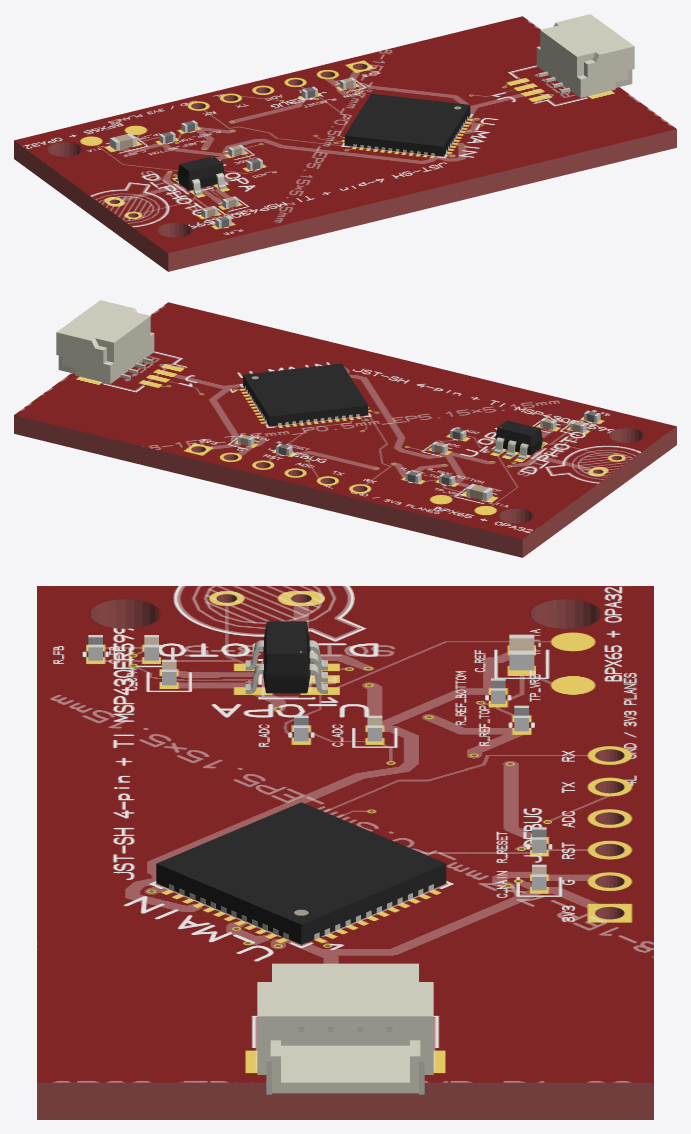
3 renders of one model, top to bottom at view 1: azimuth 30°, elevation 25°; view 2: azimuth 150°, elevation 25°; view 3: azimuth 270°, elevation 25°, orthographic. The views are drawn at different scales.
Parts seen in each view (by area): view 1: Box0, J1, U_MAIN, U_OPA; view 2: Box0, J1, U_MAIN, U_OPA; view 3: Box0, U_MAIN, J1, U_OPA, C_REF.
Boxes of the visible parts, bbox=[...] form: Box0: bbox=[14, 16, 676, 271]; J1: bbox=[536, 14, 634, 97]; U_MAIN: bbox=[344, 93, 470, 156]; U_OPA: bbox=[175, 156, 226, 195]; Box0: bbox=[14, 302, 676, 557]; J1: bbox=[56, 300, 154, 383]; U_MAIN: bbox=[243, 363, 368, 426]; U_OPA: bbox=[493, 420, 544, 459]; Box0: bbox=[37, 586, 653, 1119]; U_MAIN: bbox=[156, 802, 446, 944]; J1: bbox=[257, 963, 433, 1094]; U_OPA: bbox=[245, 621, 327, 693]; C_REF: bbox=[509, 634, 534, 670].
Size of the model in its own units: 41 by 4.36 by 21.
Materials: 10 (2 with a texture image).
